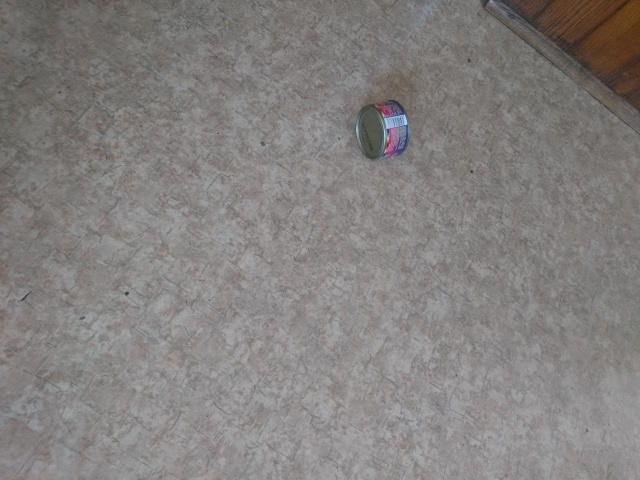Giana Tuna Salad Mexico 185g: (352, 97, 412, 162)
